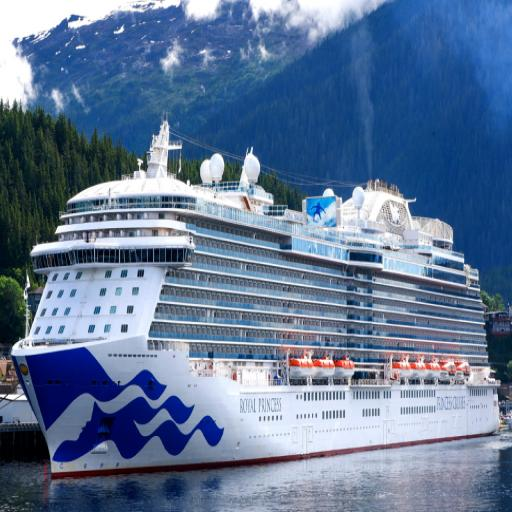cruises: (11, 112, 504, 487)
